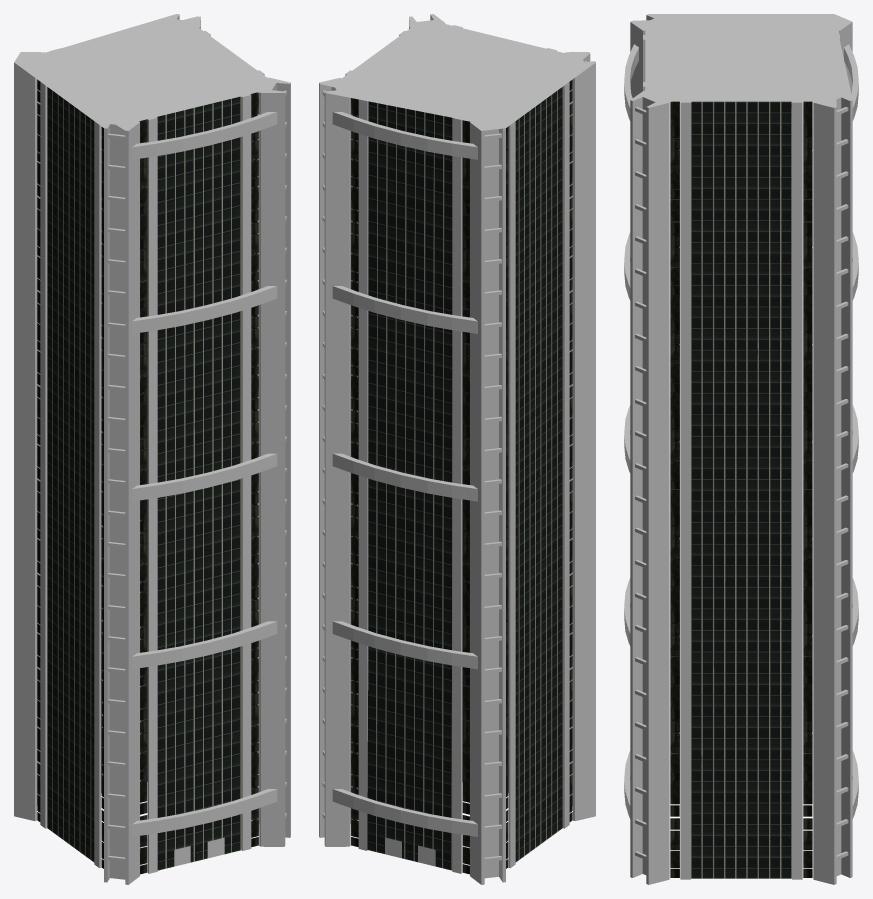
3 views of the same model, side by side, from view 1: azimuth 30°, elevation 25°; view 2: azimuth 150°, elevation 25°; view 3: azimuth 270°, elevation 25° (orthographic). The views are drawn at different scales.
Parts seen in each view (by area): view 1: BC-085; view 2: BC-085; view 3: BC-085.
Part boxes in pixels (left/top/right/bottom): BC-085: left=14, top=14, right=290, bottom=884; BC-085: left=319, top=14, right=595, bottom=884; BC-085: left=624, top=14, right=858, bottom=884.
Size of what is drawn, in the model's own units: 30.33 by 117 by 31.98.
